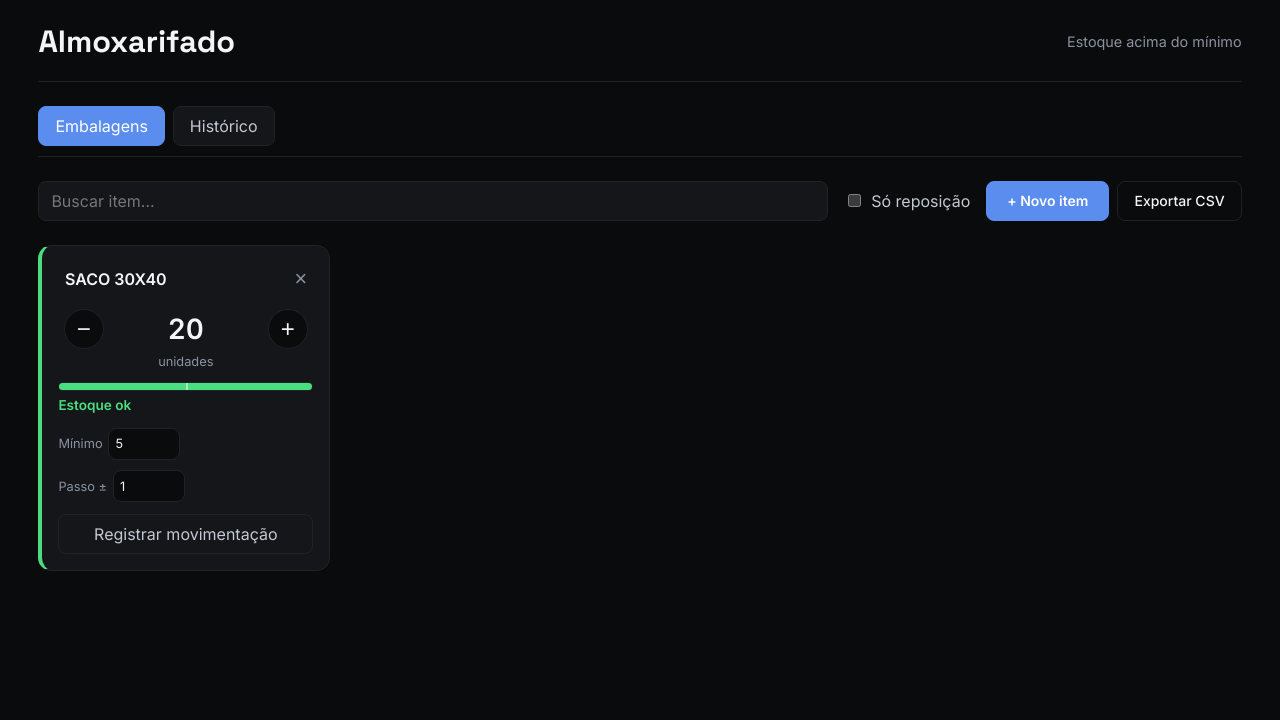
Test: Almoxarifado › abre o movimento do item, salva pela API e atualiza o saldo
This screenshot has width=1280, height=720.
Click the button "Registrar movimentação" at (186, 534), box [58,514,313,554]
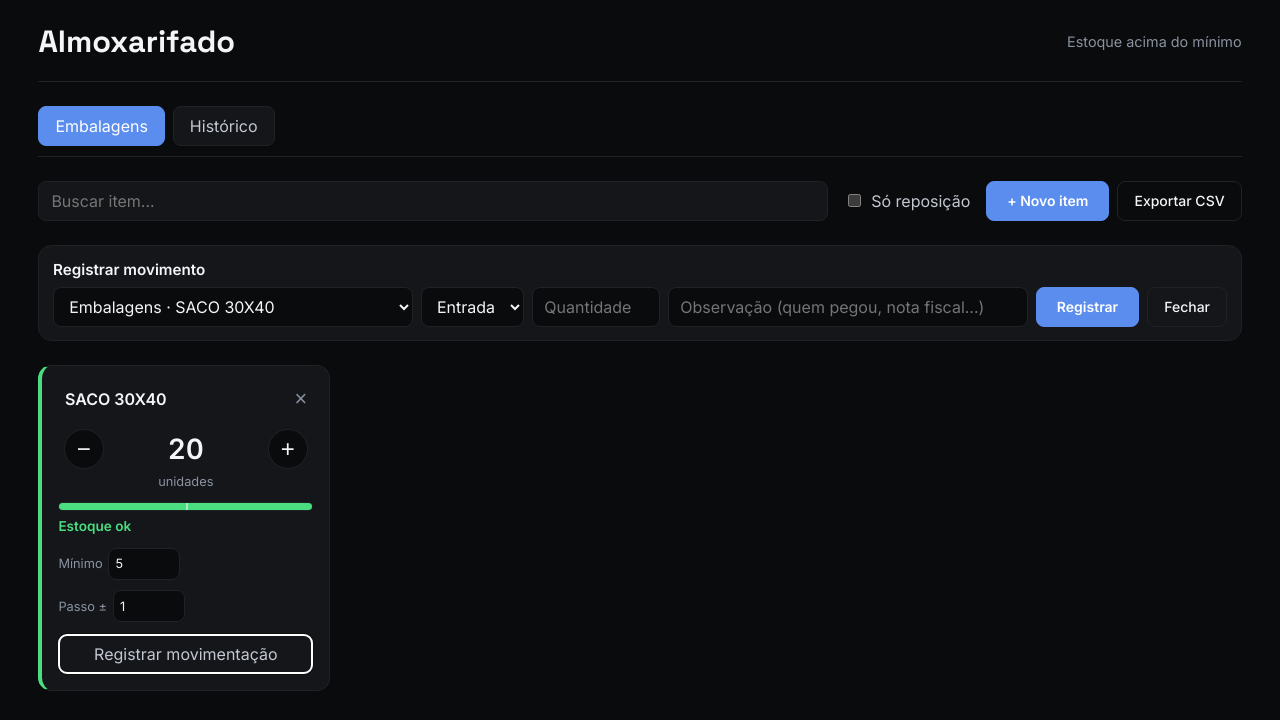
Select "Embalagens · SACO 30X40" in the dropdown named "Item para movimentar" at (233, 307), box [53,287,413,327]
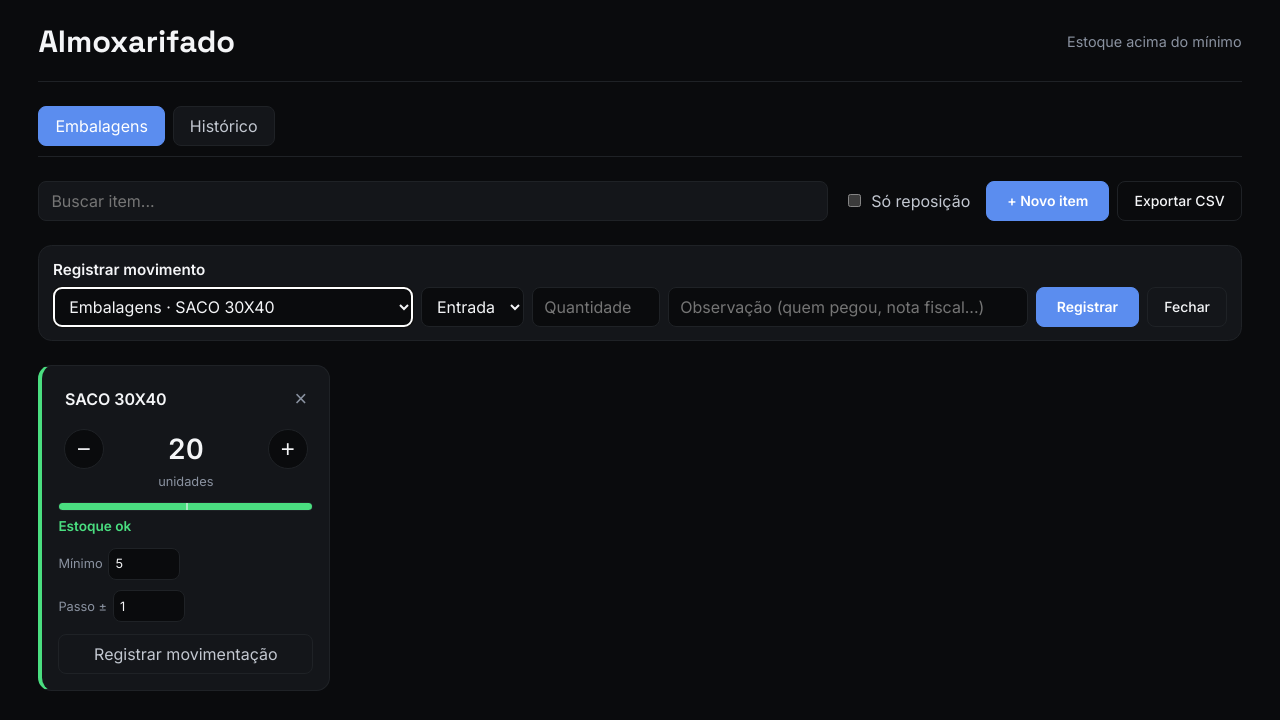
Select "Entrada" in the dropdown named "Tipo de movimento" at (472, 307), box [421,287,524,327]
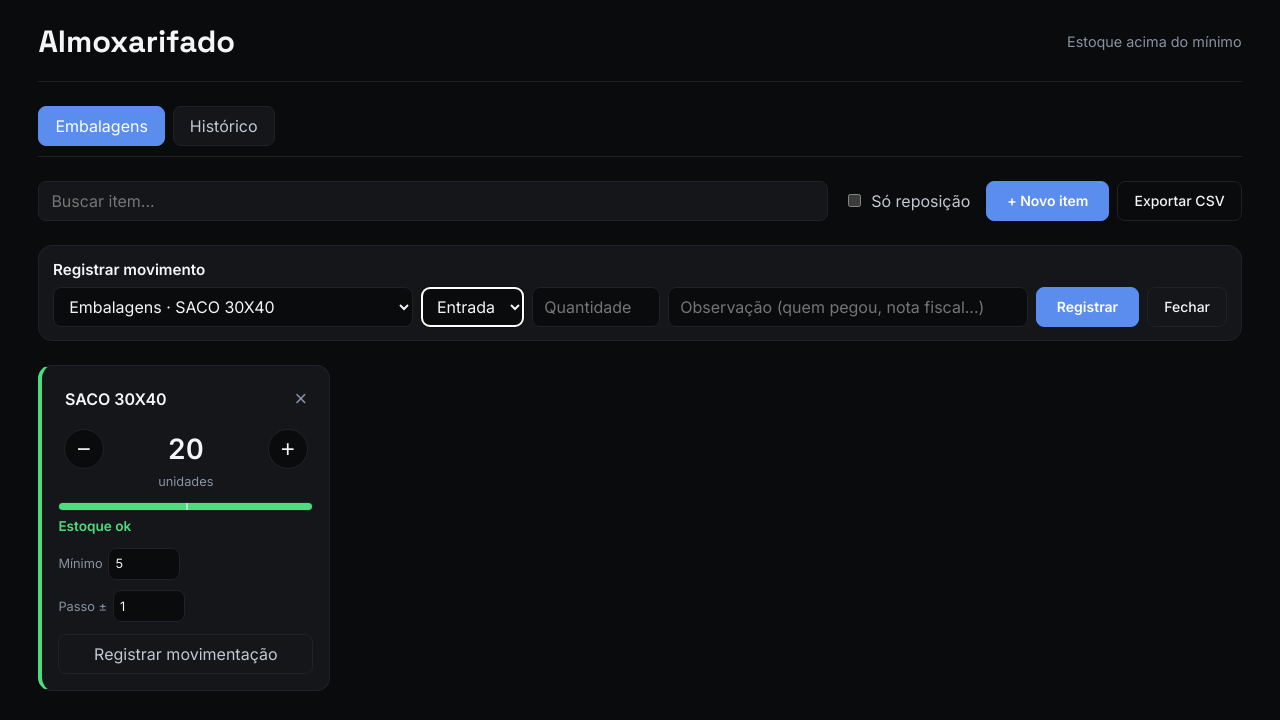
Type "5" into the number field named "Quantidade da movimentação" at (596, 307), box [532,287,660,327]
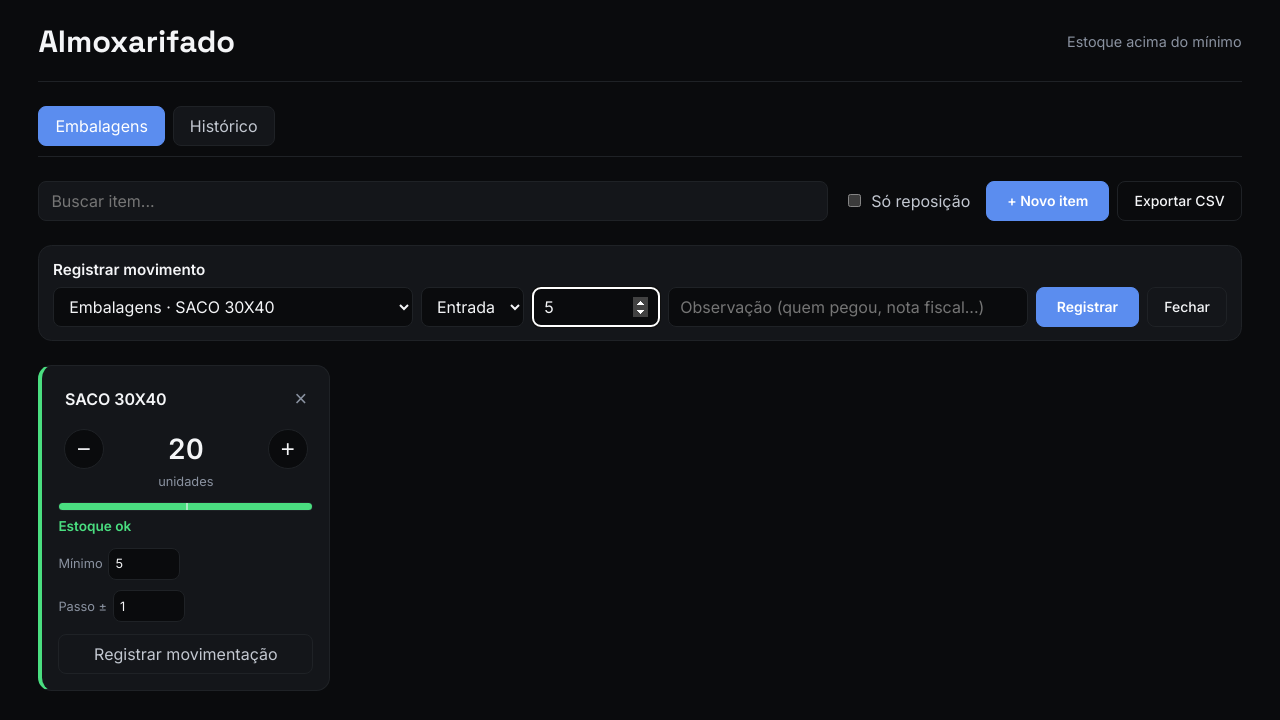
Type "Reposição" into the field named "Observação da movimentação" at (848, 307), box [668,287,1028,327]
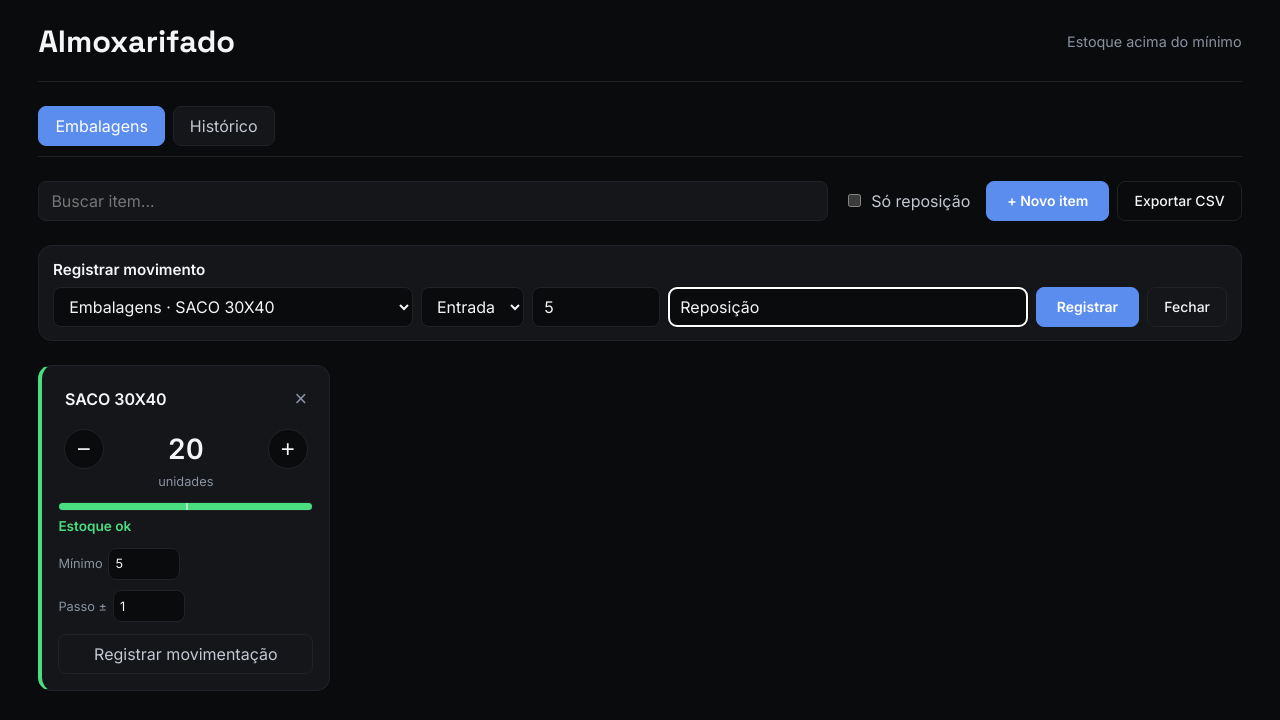
Click the button "Registrar" at (1088, 307), box [1036,287,1139,327]
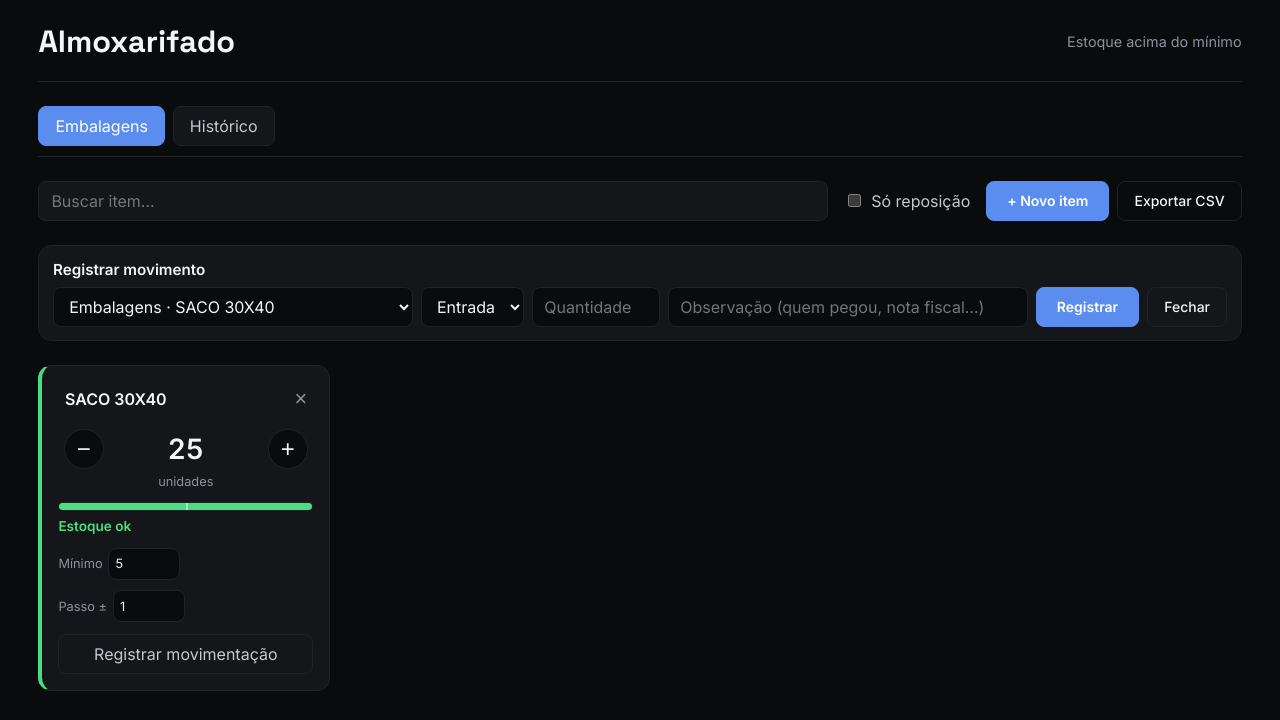
Expected: the field named "Saldo de SACO 30X40" holds "25", [116,429,256,470]
